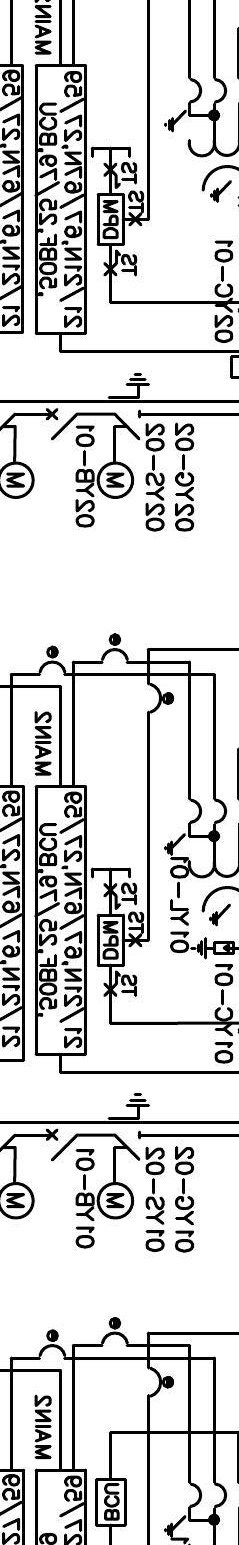115_3ways_ds_w_motor: (96, 1092, 151, 1220), (96, 371, 150, 500)
115_breaker: (45, 408, 78, 441), (46, 1128, 78, 1162)
115_la: (189, 936, 235, 960)
BCU: (94, 1477, 128, 1528)
DPM: (96, 193, 125, 247), (97, 914, 125, 968)
